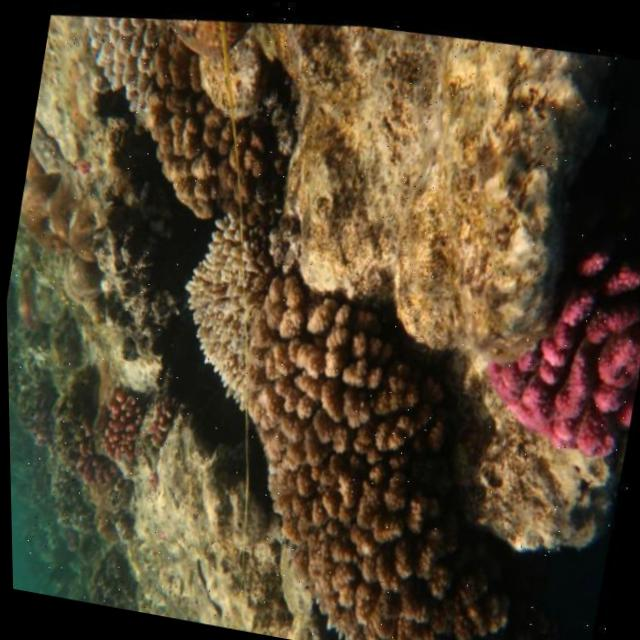Healthy Coral: (205, 263, 459, 640), (448, 199, 640, 499), (122, 47, 314, 253)
